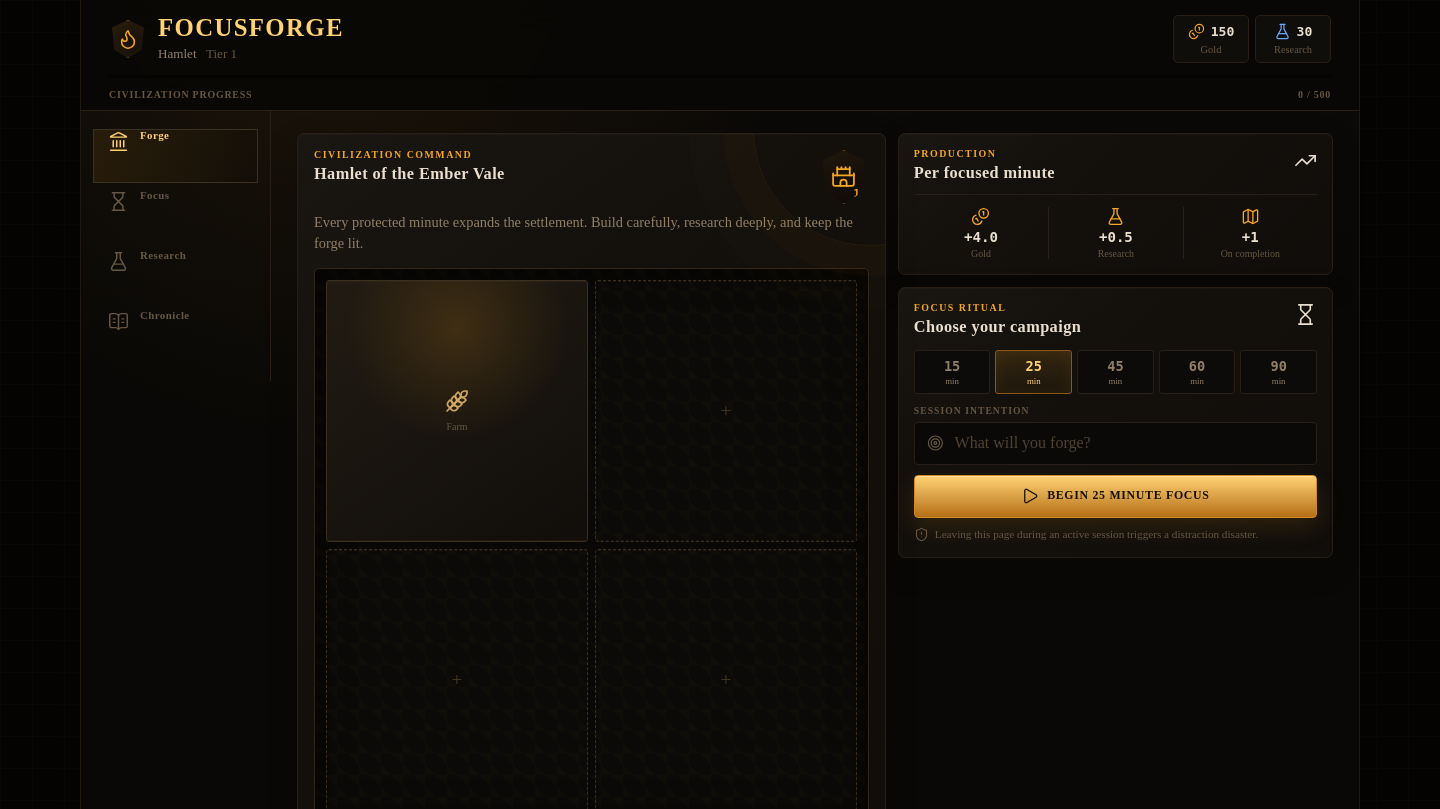
Test: FocusForge player workflow › starts a focus session and supports pause and resume
The image size is (1440, 809).
In the field labelled "Session intention": (1128,443) top-left (952, 433), bottom-right (1304, 453), type "Draft the launch page"
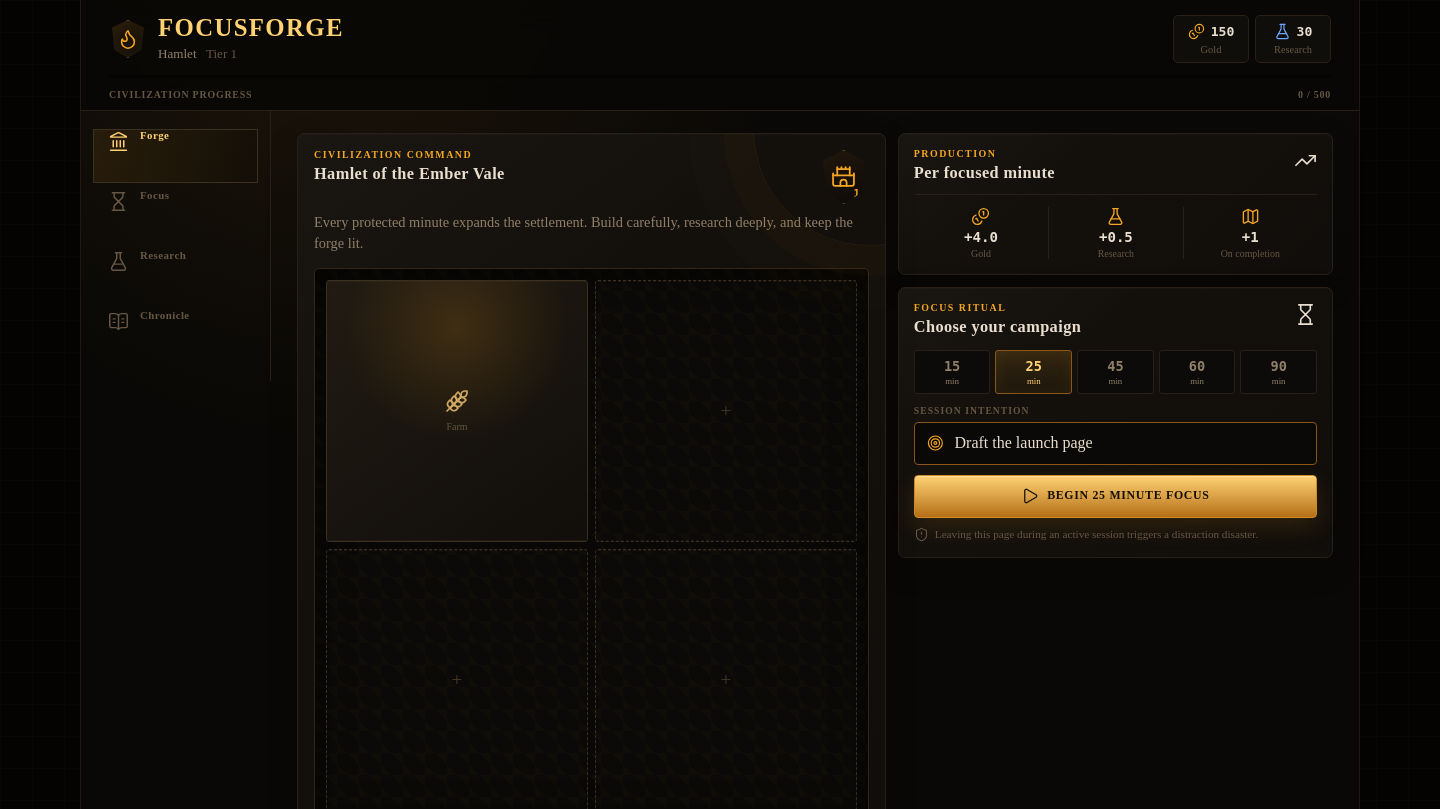
Click the button "Begin 25 minute focus": (1115,496) top-left (914, 475), bottom-right (1317, 518)
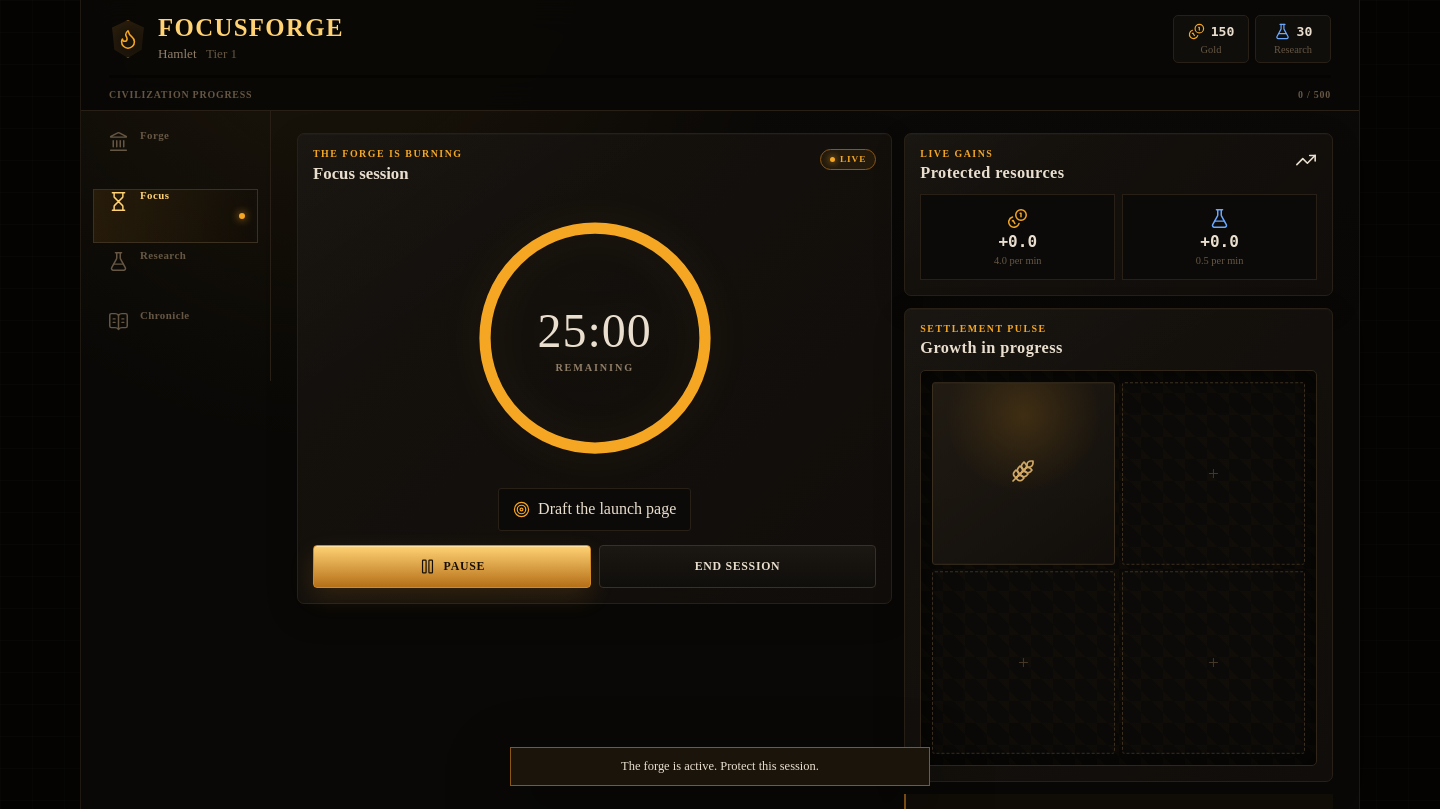
Check: the heading "Focus session" is shown, box top-left (313, 164), bottom-right (409, 183)
Check: the text "Draft the launch page" is shown, box top-left (538, 500), bottom-right (676, 518)
Click the button "Pause": (452,566) top-left (313, 545), bottom-right (591, 588)
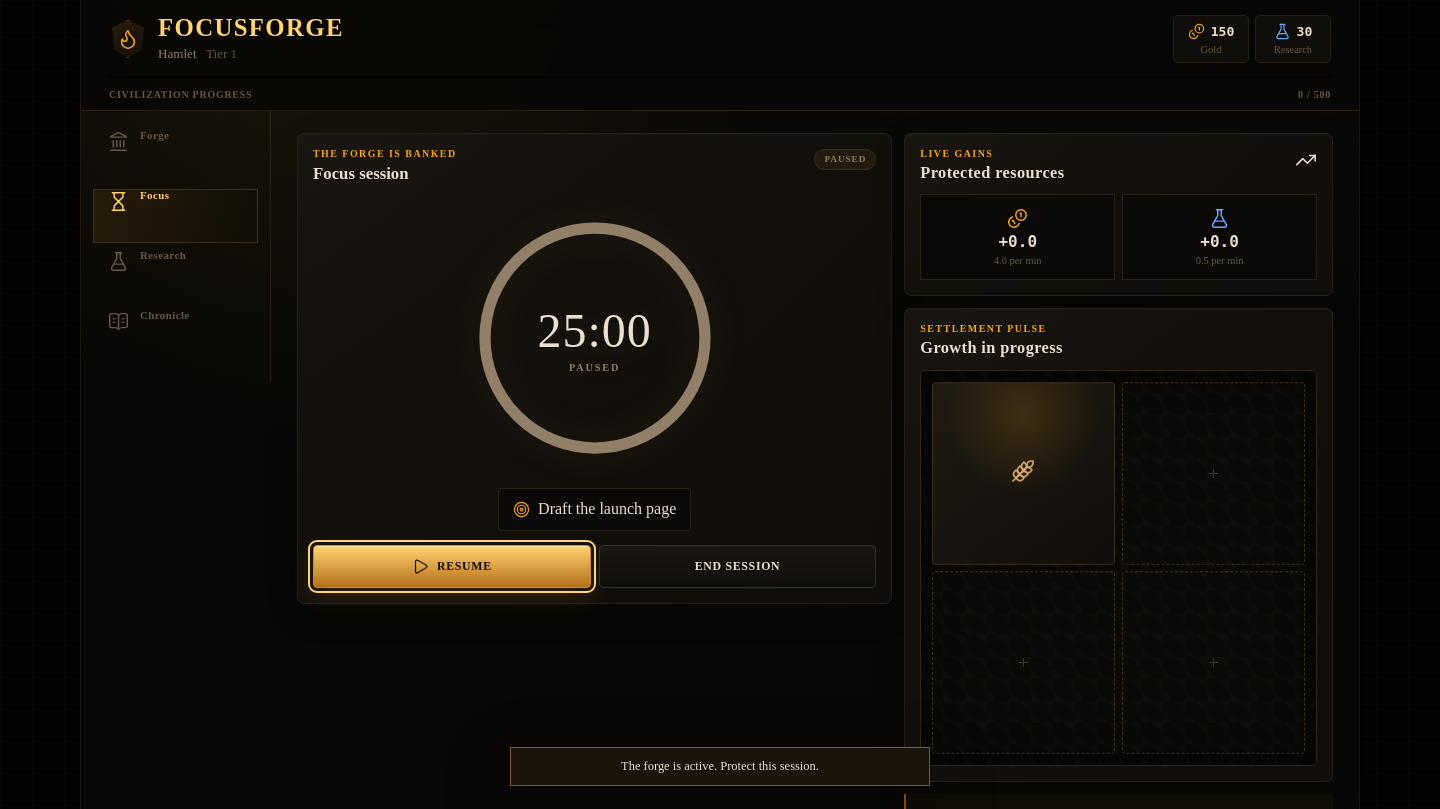
Check: the button "Resume" is shown
Click the button "Resume": (452,566) top-left (313, 545), bottom-right (591, 588)
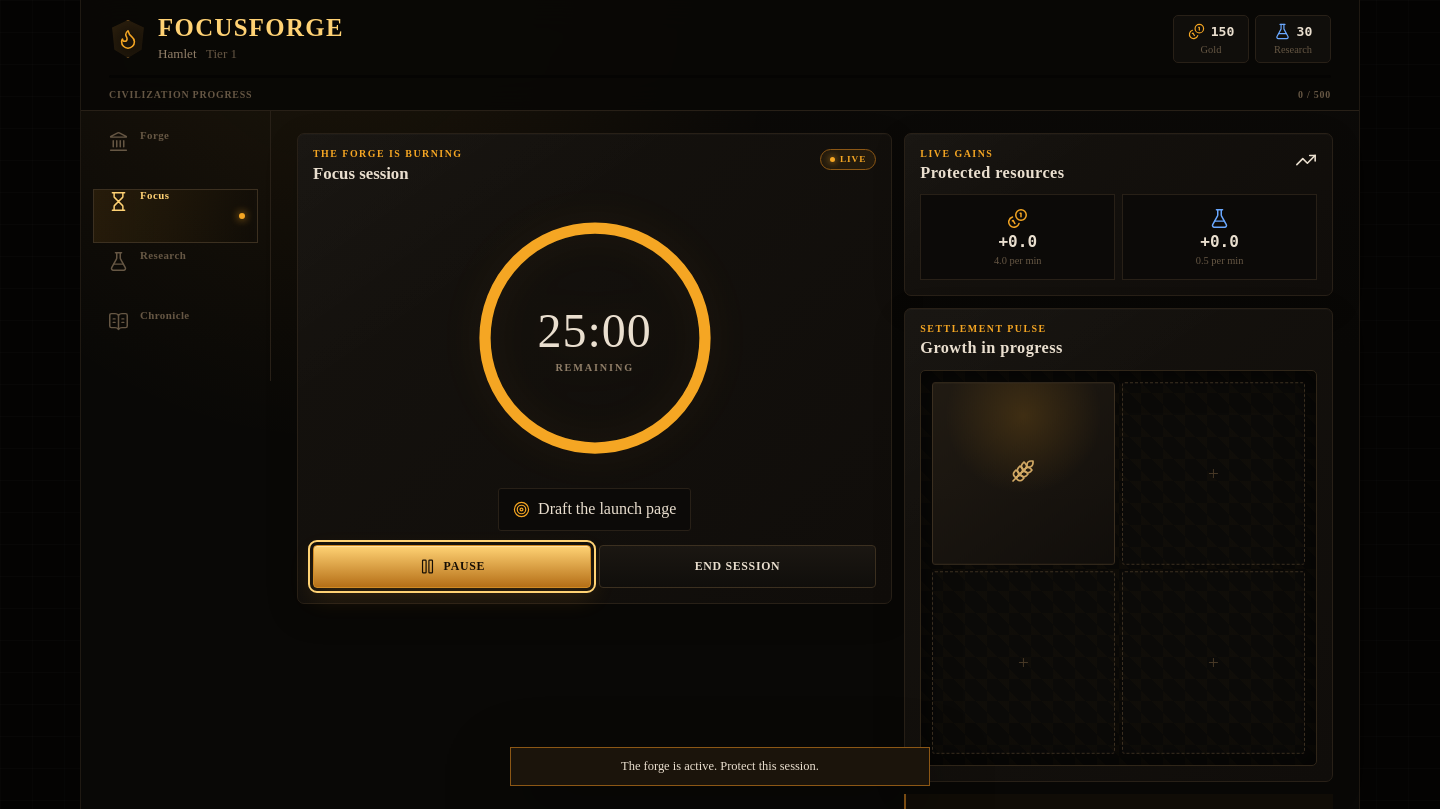
Check: the button "Pause" is shown, box top-left (313, 545), bottom-right (591, 588)
